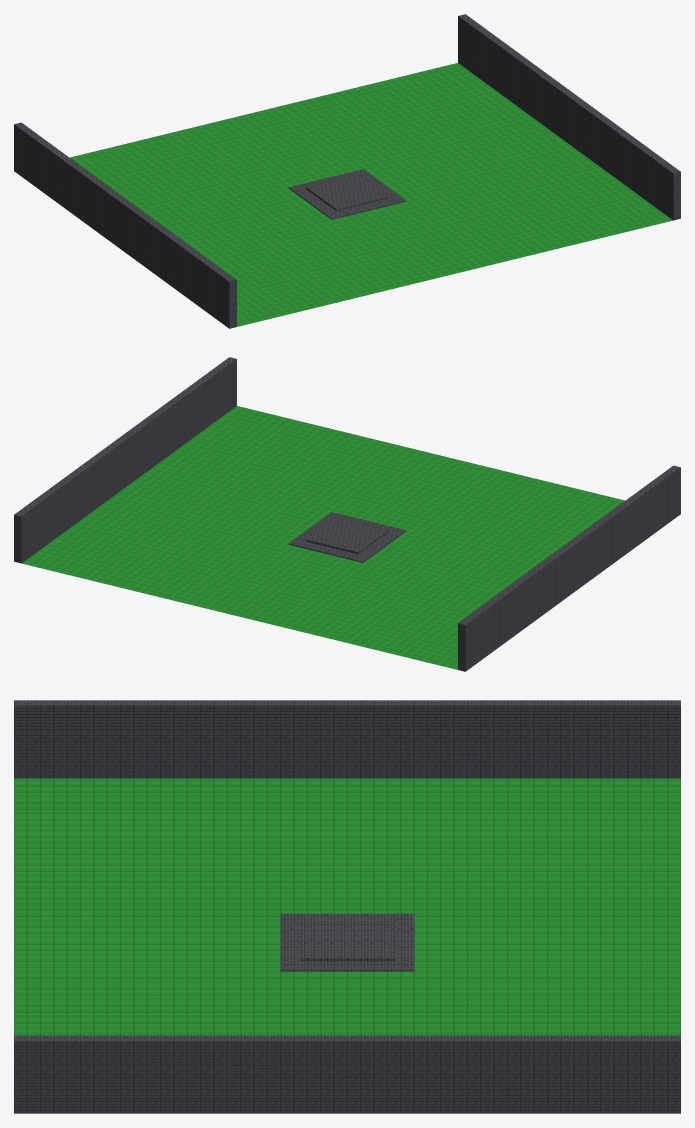
Rendered from MAPLego.gltf.
The picture shows the model from 3 angles, top to bottom: view 1: azimuth 30°, elevation 25°; view 2: azimuth 150°, elevation 25°; view 3: azimuth 270°, elevation 25°; orthographic projection. The views are drawn at different scales.
Visible parts, largest first — view 1: Ground, Wall2, Wall1, center1, center; view 2: Ground, Wall2, Wall1, center1, center; view 3: Ground, Wall2, Wall1, center1, center.
Part boxes in pixels (x1,y1,x2,y2): Ground: (70,63,673,326); Wall2: (458,14,680,220); Wall1: (14,122,236,328); center1: (306,174,388,211); center: (288,169,406,219); Ground: (21,406,624,669); Wall2: (14,357,236,563); Wall1: (458,465,680,671); center1: (306,517,388,554); center: (288,512,406,562); Ground: (14,778,680,1035); Wall2: (14,1035,680,1113); Wall1: (14,700,680,778); center1: (300,919,394,961); center: (280,913,414,971).
Size of what is drawn, in the model's own units: 242 by 25.5 by 200.
Materials: 2 (2 with a texture image).
